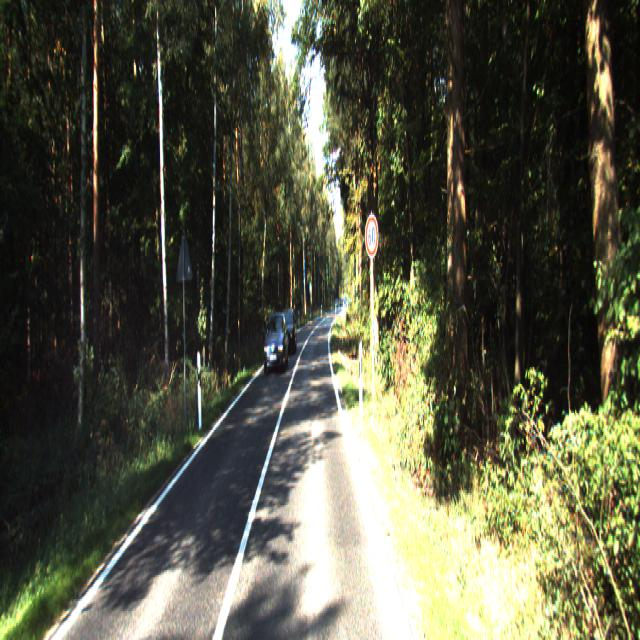Car: (264, 312, 288, 374), (280, 306, 299, 358)
